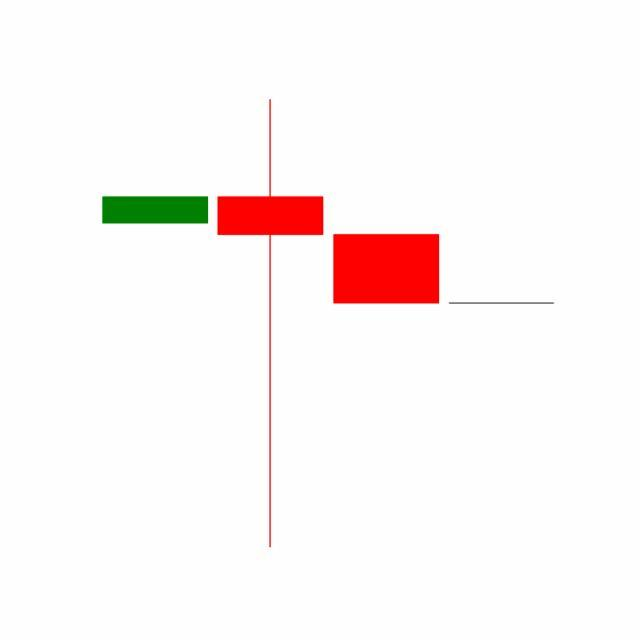Marubozu: (329, 234, 445, 306)
